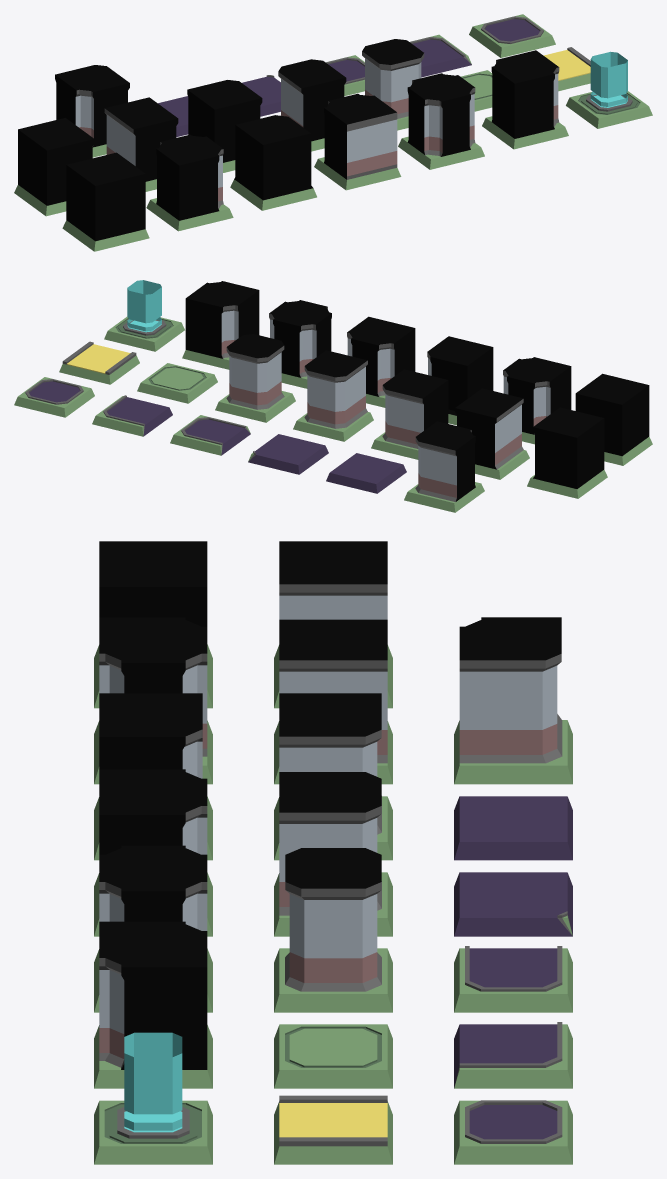
The model's file is tiles.glb.
3 renders of one model, top to bottom at view 1: azimuth 30°, elevation 25°; view 2: azimuth 150°, elevation 25°; view 3: azimuth 270°, elevation 25°, orthographic. The views are drawn at different scales.
Visible parts, largest first — view 1: Tile.Wall.F, Tille.Wall.IC, Tille.Wall.IP, Tile.Wall.D, Tile.Wall.X, Tile.Wall.T, Tile.Wall.IT, Tile.Wall.L, Tile.Wall.I, Tile.Wall.LB, Tile.Wall.P, Tile.TP (+8 smaller); view 2: Tile.Wall.IT, Tile.Wall.P, Tile.Wall.D, Tile.Wall.L, Tile.Wall, Tile.Wall.F, Tile.Wall.I, Tile.Wall.LB, Tille.Wall.IP, Tile.Wall.X, Tile.Wall.T, Tille.Wall.IC (+8 smaller); view 3: Tile.Wall.L, Tile.Wall, Tile.Wall.D, Tile.TP, Tile.Wall.P, Tile.Wall.I, Tile.Wall.T, Tile.Wall.IT, Tile.Wall.LB, Tile.Wall.F, Tille.Wall.IP, Tile.Wall.X (+8 smaller).
Part boxes in pixels (box(x1,y1,x2,y2)): Tile.Wall.F: box(62, 152, 149, 251); Tille.Wall.IC: box(230, 115, 316, 210); Tille.Wall.IP: box(314, 93, 401, 190); Tile.Wall.D: box(482, 50, 568, 149); Tile.Wall.X: box(398, 73, 484, 169); Tile.Wall.T: box(146, 134, 233, 231); Tile.Wall.IT: box(14, 118, 94, 216); Tile.Wall.L: box(55, 65, 129, 157); Tile.Wall.I: box(104, 97, 178, 191); Tile.Wall.LB: box(187, 80, 262, 172); Tile.Wall.P: box(278, 59, 346, 151); Tile.TP: box(566, 51, 652, 128); Tile.Wall.IT: box(527, 407, 607, 498); Tile.Wall.P: box(293, 350, 373, 441); Tile.Wall.D: box(182, 281, 259, 369); Tile.Wall.L: box(404, 421, 484, 512); Tile.Wall: box(215, 334, 295, 422); Tile.Wall.F: box(575, 373, 652, 465); Tile.Wall.I: box(455, 388, 529, 479); Tile.Wall.LB: box(371, 369, 448, 459); Tille.Wall.IP: box(347, 316, 415, 407); Tile.Wall.X: box(269, 300, 331, 388); Tile.Wall.T: box(503, 357, 571, 444); Tille.Wall.IC: box(427, 336, 493, 425); Tile.Wall.L: box(454, 617, 572, 784); Tile.Wall: box(274, 848, 392, 1012); Tile.Wall.D: box(94, 921, 212, 1088); Tile.TP: box(94, 1032, 212, 1164); Tile.Wall.P: box(274, 772, 392, 936); Tile.Wall.I: box(274, 619, 392, 784); Tile.Wall.T: box(94, 617, 212, 784); Tile.Wall.IT: box(274, 541, 392, 708); Tile.Wall.LB: box(274, 693, 392, 860); Tile.Wall.F: box(94, 541, 212, 708); Tille.Wall.IP: box(94, 769, 212, 936); Tile.Wall.X: box(94, 845, 212, 1012).
Bounding box in the file's own units: 66.6 × 7.3 × 26.6.
